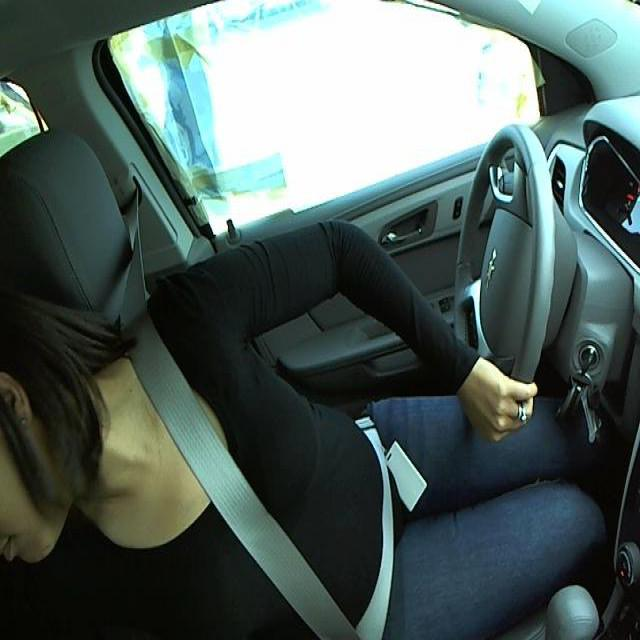seatbelt: (122, 372, 402, 629)
